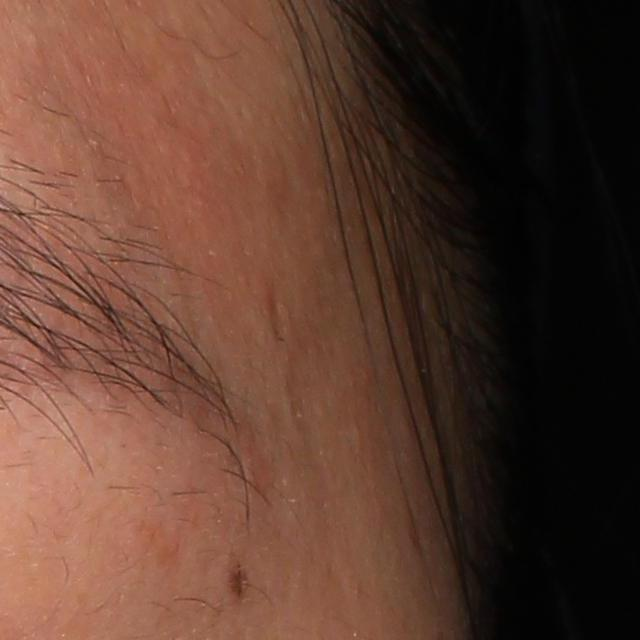nevus: (229, 551, 252, 600)
